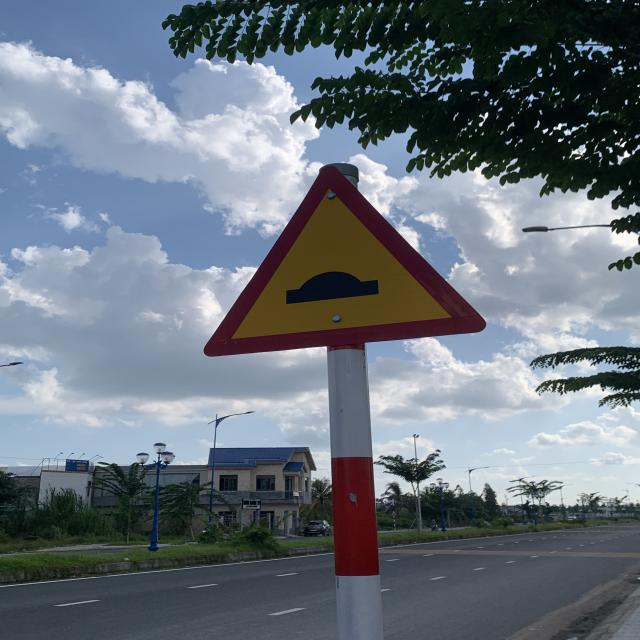Duong_Cong_Ben_Phai: (191, 167, 487, 355)
